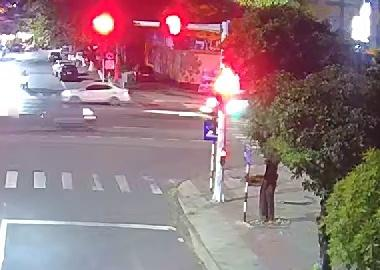red_light: (158, 10, 186, 39), (214, 64, 240, 94), (94, 11, 115, 36)
stop_line: (3, 216, 183, 231)
